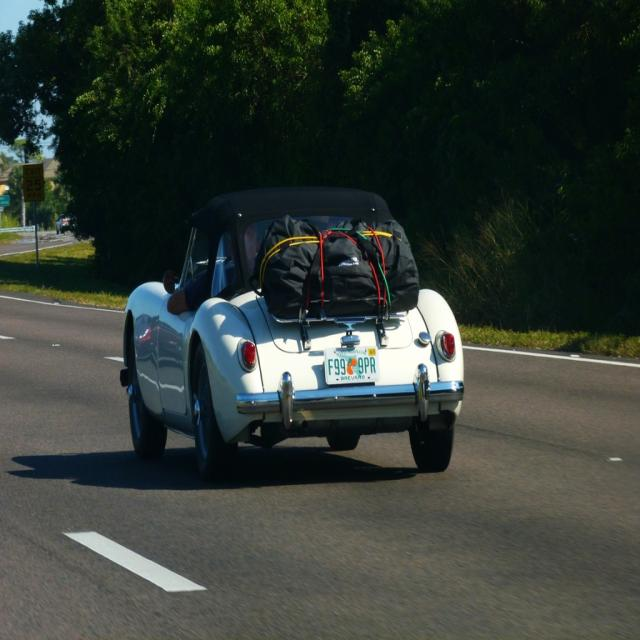car: (119, 181, 469, 472)
